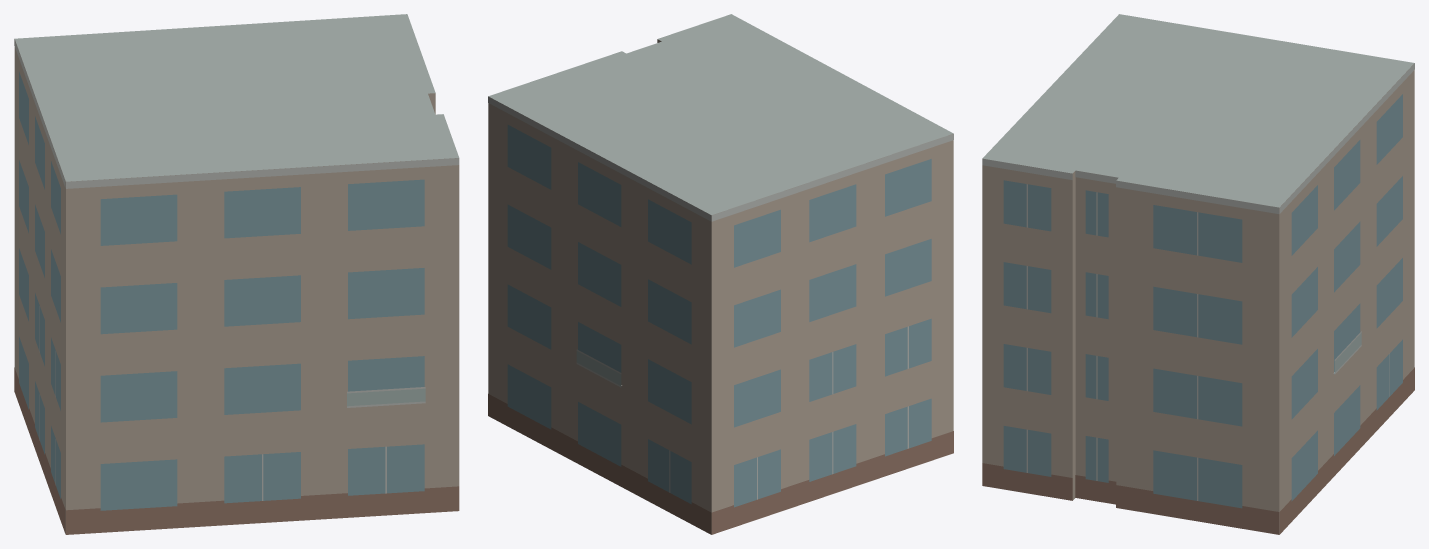
Rendered from survey-upis-33039732.glb.
3 renders of one model, left to right at view 1: azimuth 30°, elevation 25°; view 2: azimuth 150°, elevation 25°; view 3: azimuth 270°, elevation 25°, orthographic. The views are drawn at different scales.
Parts seen in each view (by area): view 1: survey-upis-33039732.tmp; view 2: survey-upis-33039732.tmp; view 3: survey-upis-33039732.tmp.
Part boxes in pixels (x1,y1,x2,y2): survey-upis-33039732.tmp: (14, 14, 459, 534); survey-upis-33039732.tmp: (488, 14, 953, 534); survey-upis-33039732.tmp: (982, 14, 1414, 534).
Bounding box in the file's own units: 15.19 × 11.97 × 14.35.
